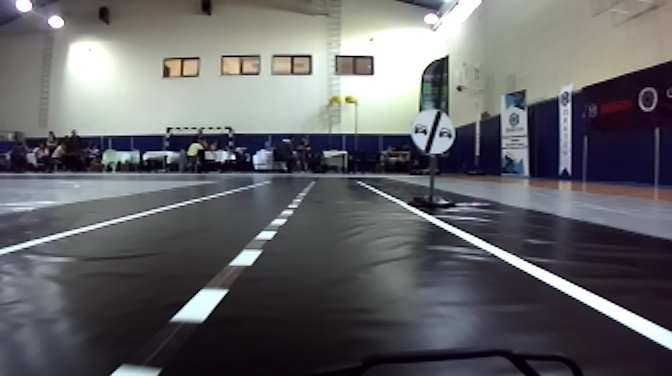sollama_serbest: (411, 108, 456, 154)
